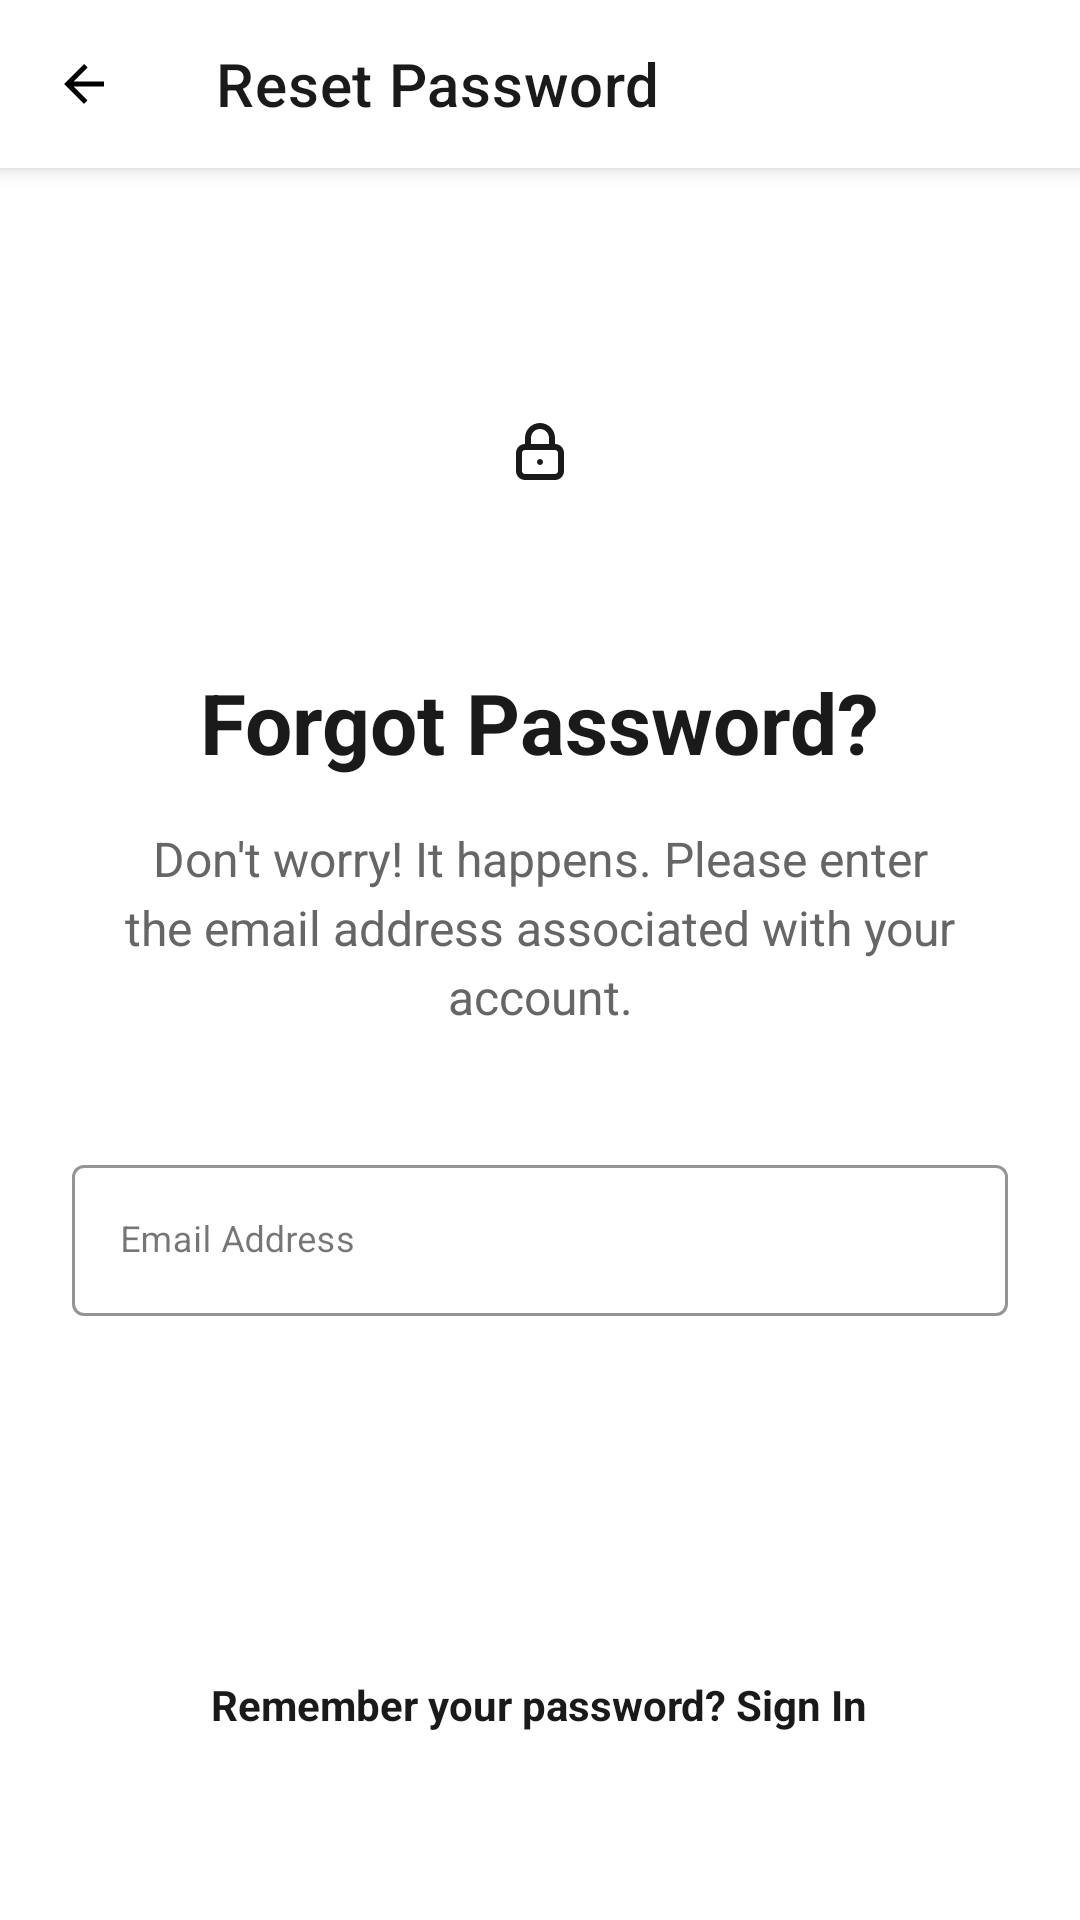

Where to tap for icons on this 1080 × 1920 app screen, as point (x, y):
lock: point (540, 451)
